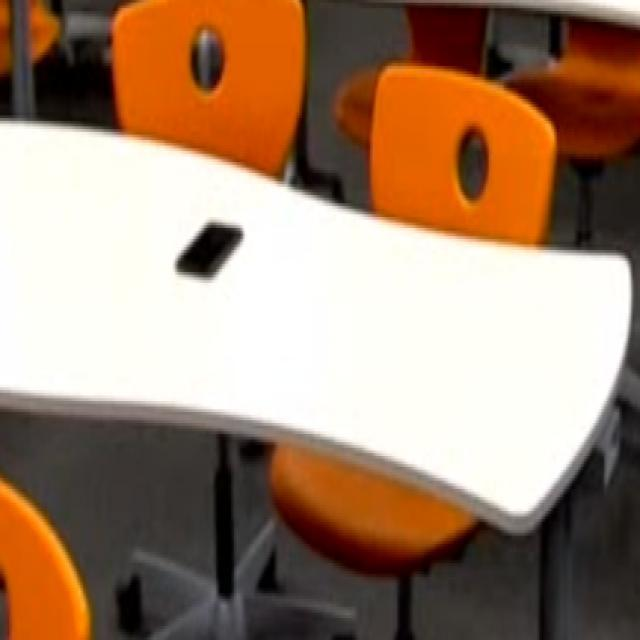phone: (166, 205, 256, 309)
